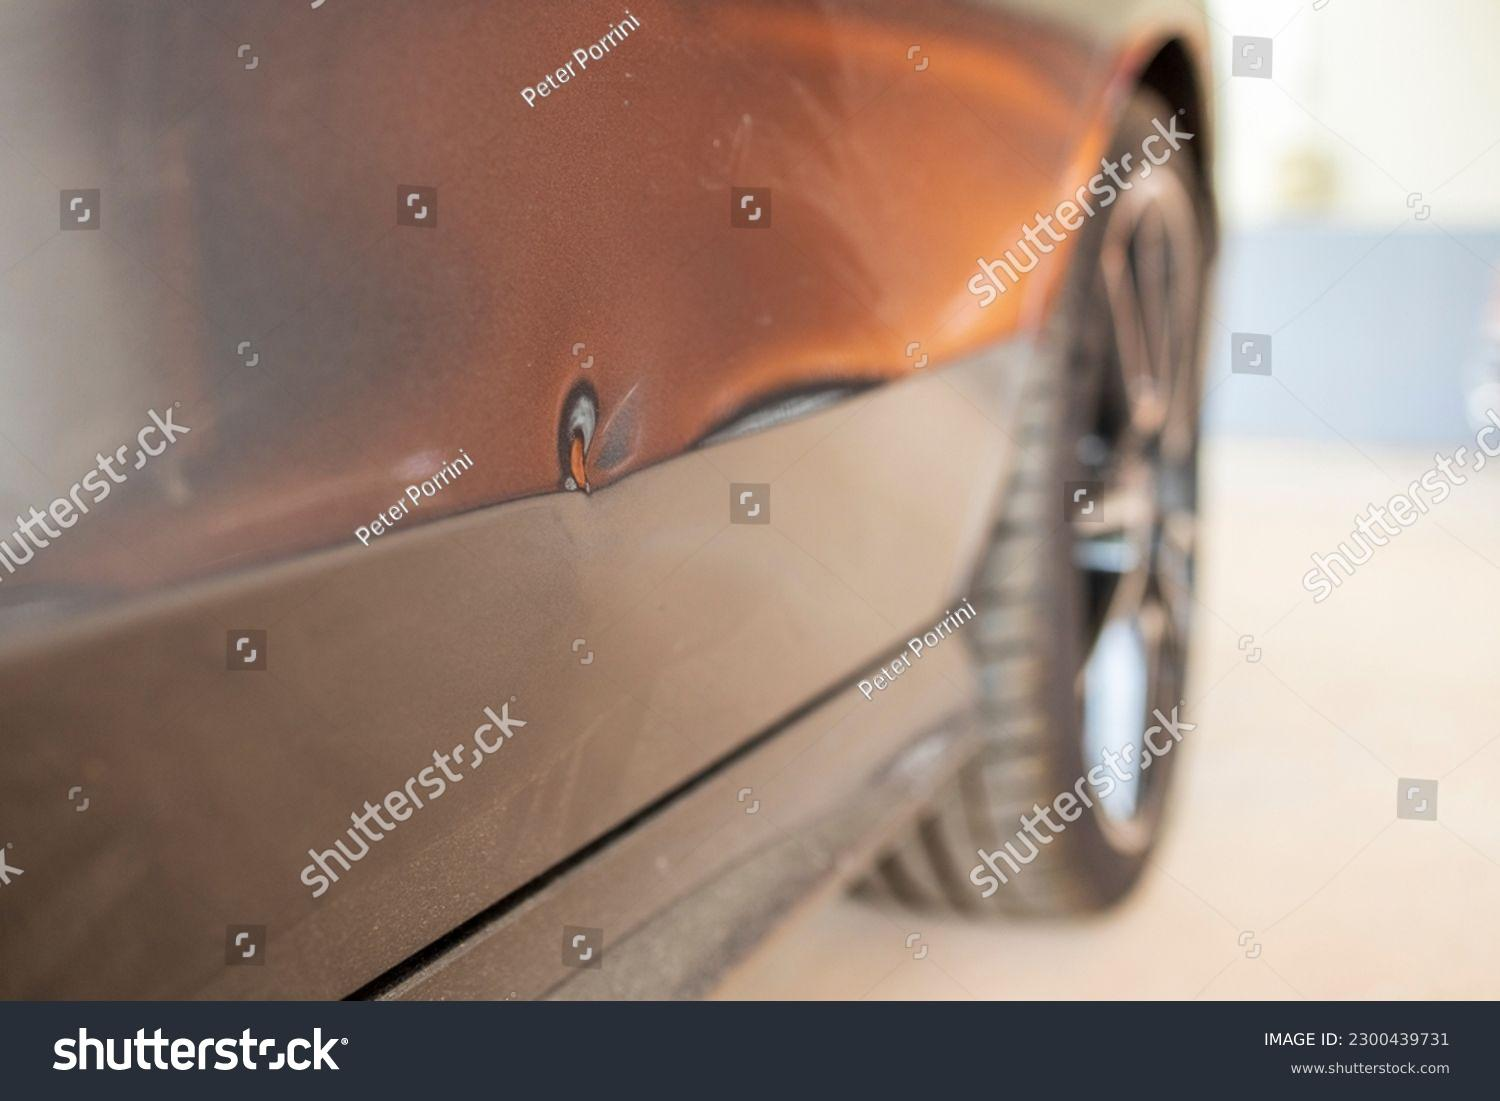dent: (526, 324, 677, 553)
